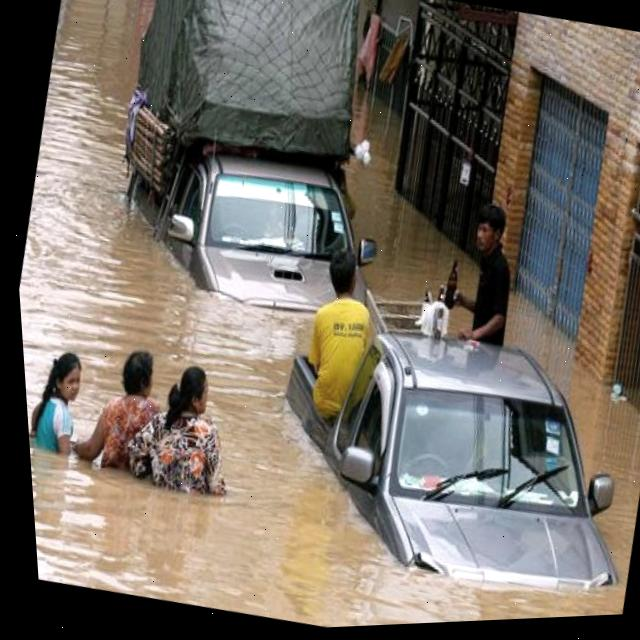civilian: (290, 246, 395, 432), (135, 352, 253, 510), (437, 196, 537, 355), (86, 331, 176, 494), (22, 327, 104, 461)
